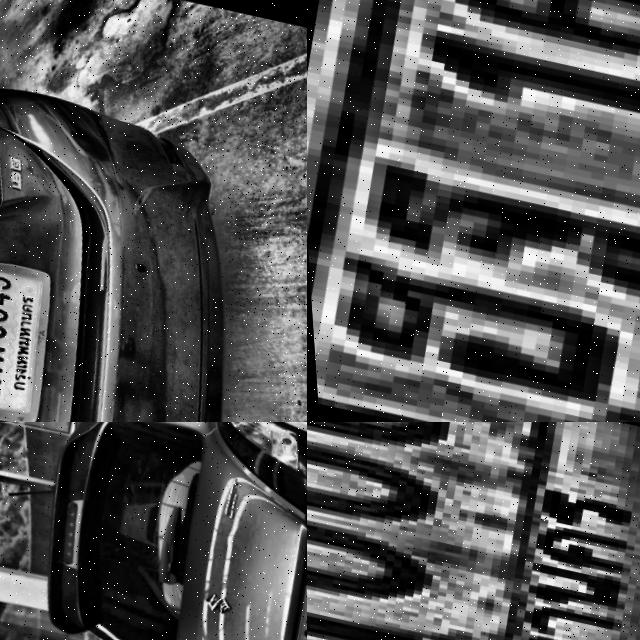license-plate: (307, 0, 640, 422), (307, 422, 640, 640), (0, 248, 69, 422), (274, 579, 307, 640)
